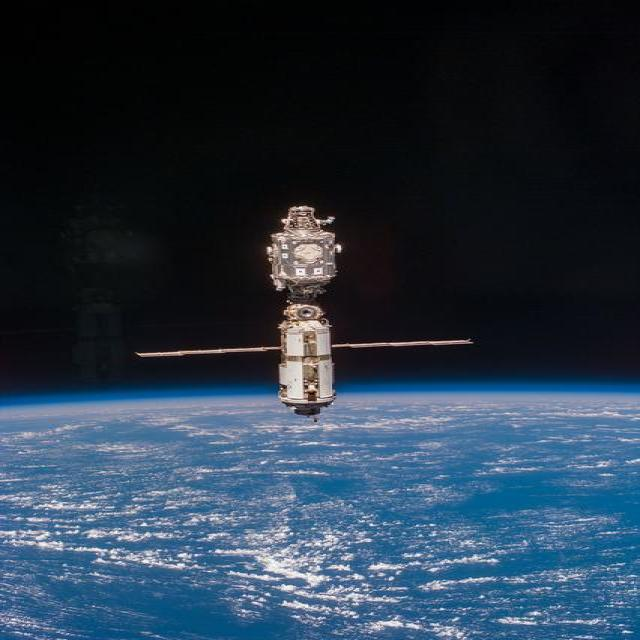satellite: (137, 206, 473, 417)
